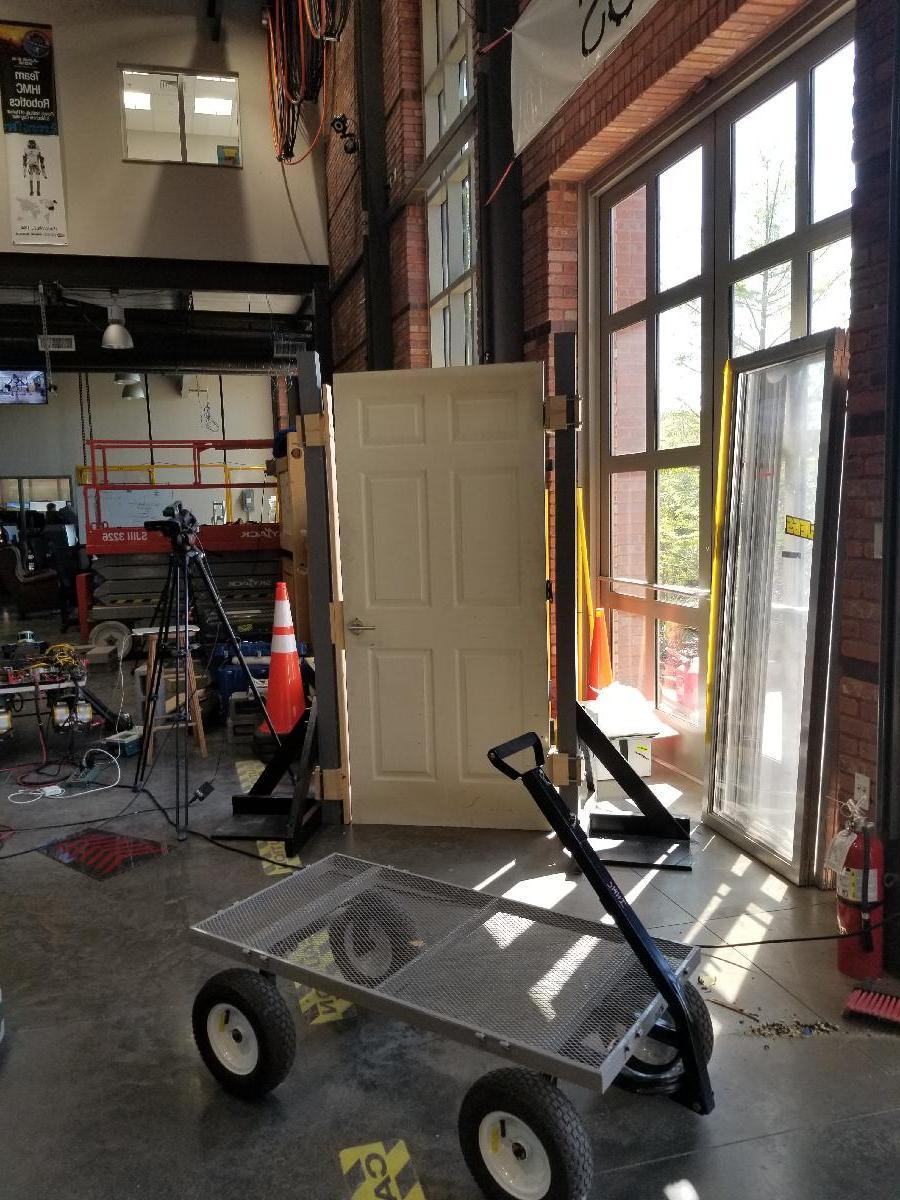door: (338, 356, 544, 828)
handle: (344, 618, 378, 638)
